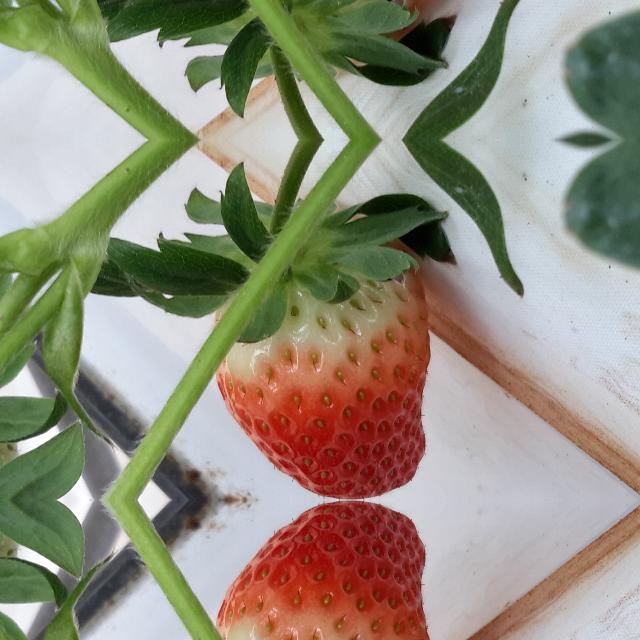Health_100: (212, 245, 430, 500), (211, 500, 430, 640)
